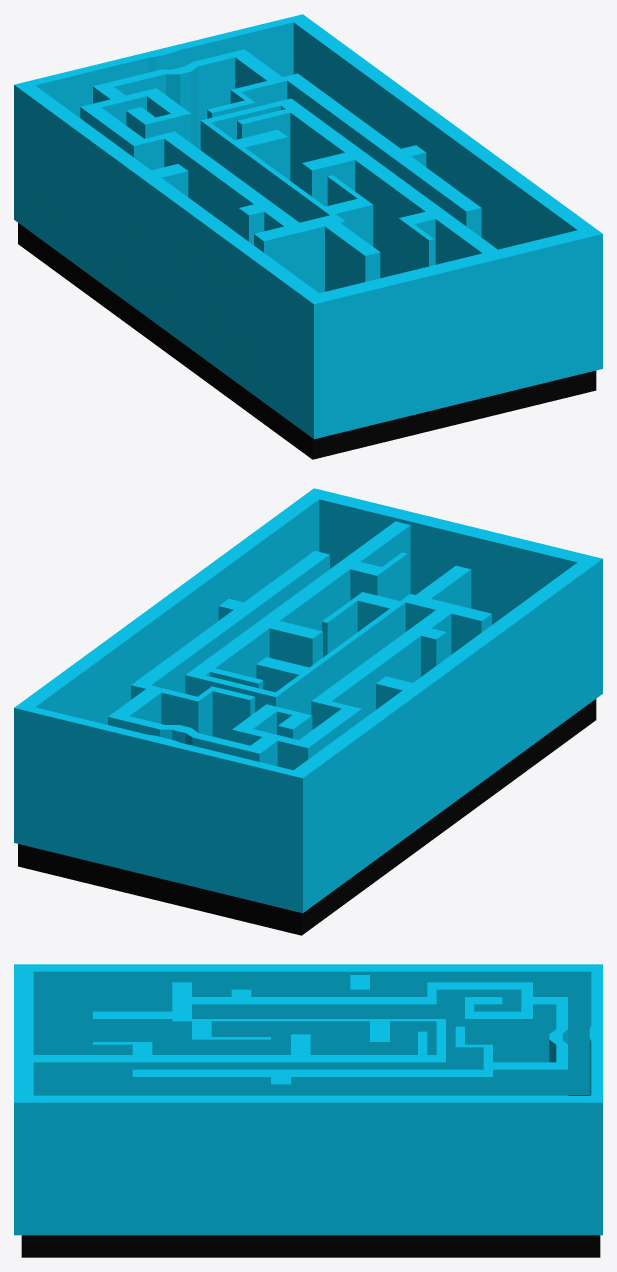
File: stage5.fbx
3 views of the same model, one above another, from view 1: azimuth 30°, elevation 25°; view 2: azimuth 150°, elevation 25°; view 3: azimuth 270°, elevation 25° (orthographic).
Parts seen in each view (by area): view 1: Cube, Cube.001; view 2: Cube, Cube.001; view 3: Cube, Cube.001.
Part boxes in pixels (x1,y1,x2,y2): Cube: [14, 14, 602, 439]; Cube.001: [18, 223, 596, 459]; Cube: [14, 488, 602, 913]; Cube.001: [18, 699, 596, 935]; Cube: [14, 964, 602, 1235]; Cube.001: [21, 1095, 600, 1257].
Size of the model in its own units: 4460 by 2344 by 8023.
